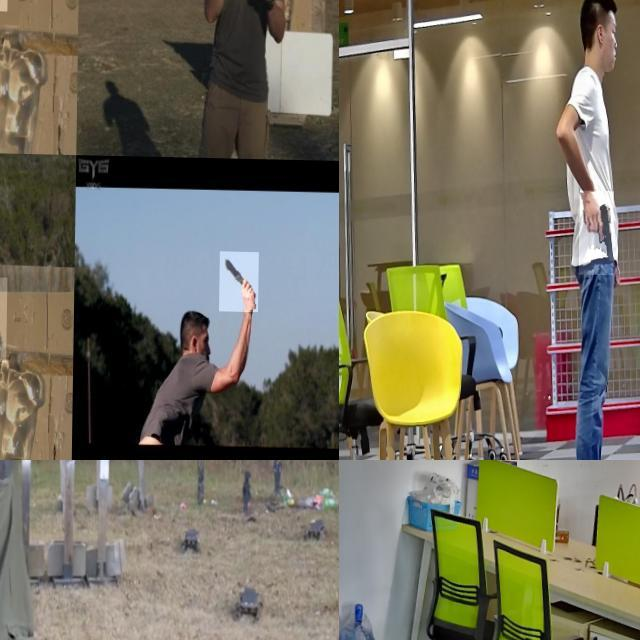-: (220, 250, 260, 310), (0, 276, 15, 361), (0, 0, 14, 38), (239, 0, 258, 25)
gun-knife-thesis - v11 Yolov5 augmented: (61, 460, 136, 507), (580, 189, 615, 273)
